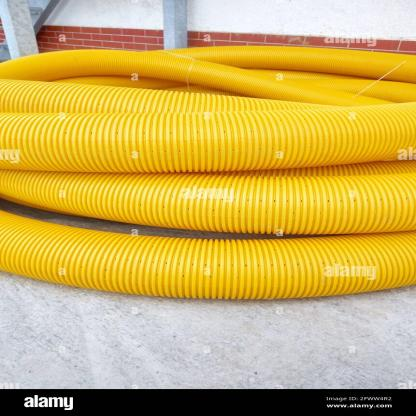PVC: (0, 45, 416, 300)
